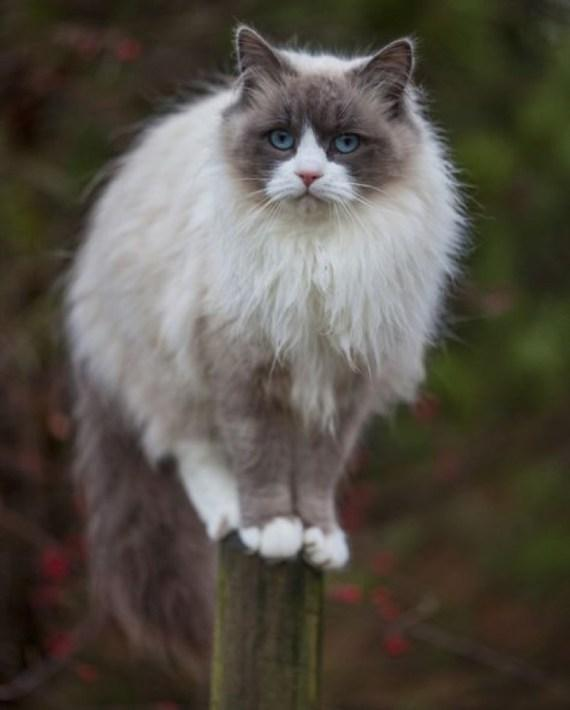ragdoll: (211, 15, 424, 231)
